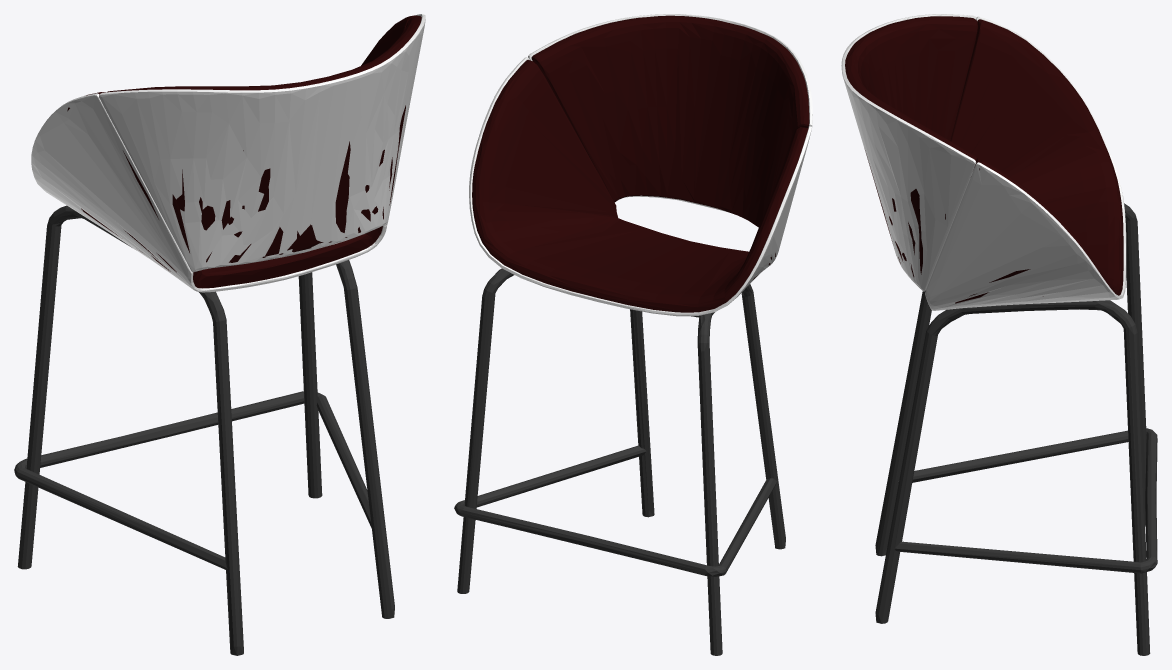
The model's file is chair.dae.
The picture shows the model from 3 angles, left to right: view 1: azimuth 30°, elevation 25°; view 2: azimuth 150°, elevation 25°; view 3: azimuth 270°, elevation 25°; orthographic projection. The views are drawn at different scales.
Parts seen in each view (by area): view 1: Scene_0 (×7); view 2: Scene_0 (×7); view 3: Scene_0 (×7).
Boxes of the visible parts, x1,y1,x2,y2 form: Scene_0 (×7): (14, 14, 425, 655); Scene_0 (×7): (454, 14, 812, 655); Scene_0 (×7): (841, 14, 1157, 655).
Size of the model in its own units: 22.73 by 19.41 by 35.47.
